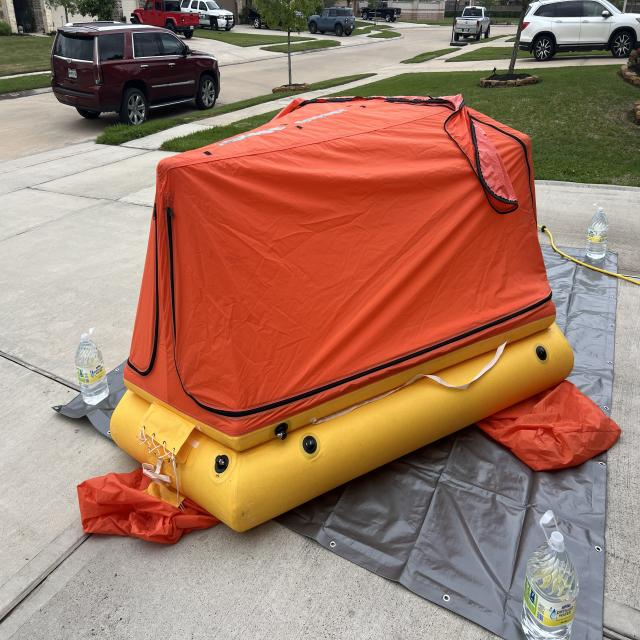Multi-person_life_raft: (77, 94, 621, 546)
